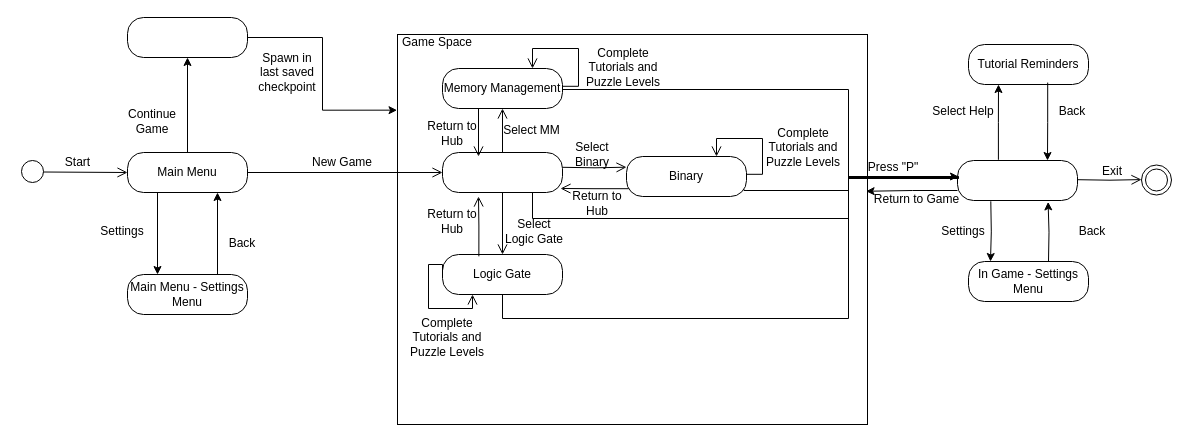
This 1189x442 diagram has some shape labels left out. The shapes that lost their labels are listed below. From the top down, each one's centre as x and y in pixels, then its label:
At (187,37): "Load checkpoint".
At (502,172): "Game Hub".
At (1017,180): "Pause Menu".
